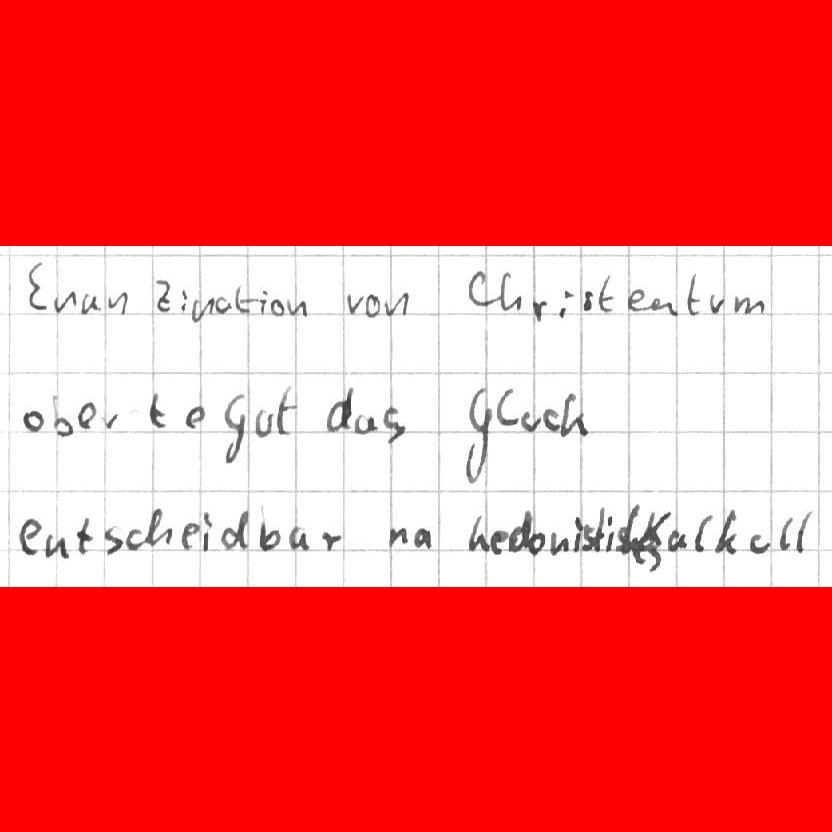Char: (462, 385, 494, 485), (223, 391, 245, 464), (558, 389, 590, 439), (217, 509, 251, 552), (273, 382, 299, 437), (324, 386, 354, 432), (257, 504, 283, 552), (145, 508, 174, 551), (49, 392, 76, 438), (380, 403, 408, 447), (463, 270, 496, 307), (713, 511, 739, 555), (507, 508, 532, 553), (27, 257, 47, 313), (498, 268, 522, 314), (17, 517, 43, 557), (793, 507, 815, 554), (50, 282, 80, 314), (692, 512, 715, 553), (494, 388, 518, 427), (596, 272, 617, 314), (74, 516, 96, 556), (467, 513, 489, 552), (146, 389, 167, 429), (382, 290, 412, 317), (105, 287, 130, 319), (232, 283, 257, 315), (685, 272, 702, 317), (775, 515, 796, 551), (190, 295, 216, 324), (76, 400, 99, 432), (44, 532, 70, 560), (102, 524, 124, 557), (152, 277, 172, 313), (21, 407, 48, 433), (182, 402, 206, 431), (732, 294, 765, 315), (253, 406, 275, 437), (287, 525, 311, 552), (99, 410, 126, 433), (386, 524, 410, 549), (593, 505, 605, 555), (319, 529, 345, 552), (557, 287, 575, 320), (602, 512, 616, 554), (285, 296, 311, 318), (353, 410, 375, 436), (665, 527, 687, 553), (180, 520, 199, 550), (411, 523, 432, 550), (549, 530, 570, 557), (526, 528, 546, 554), (200, 510, 212, 553), (648, 297, 675, 316), (748, 531, 770, 554), (708, 290, 726, 318), (345, 291, 365, 315), (542, 407, 559, 435), (570, 514, 582, 553), (79, 292, 100, 314), (488, 528, 505, 555), (521, 408, 540, 431), (532, 297, 549, 322), (126, 526, 143, 551), (364, 292, 380, 317), (214, 293, 232, 315), (627, 288, 645, 310), (580, 288, 595, 312), (178, 286, 190, 314), (582, 522, 593, 551), (269, 297, 284, 317), (258, 287, 268, 316)
